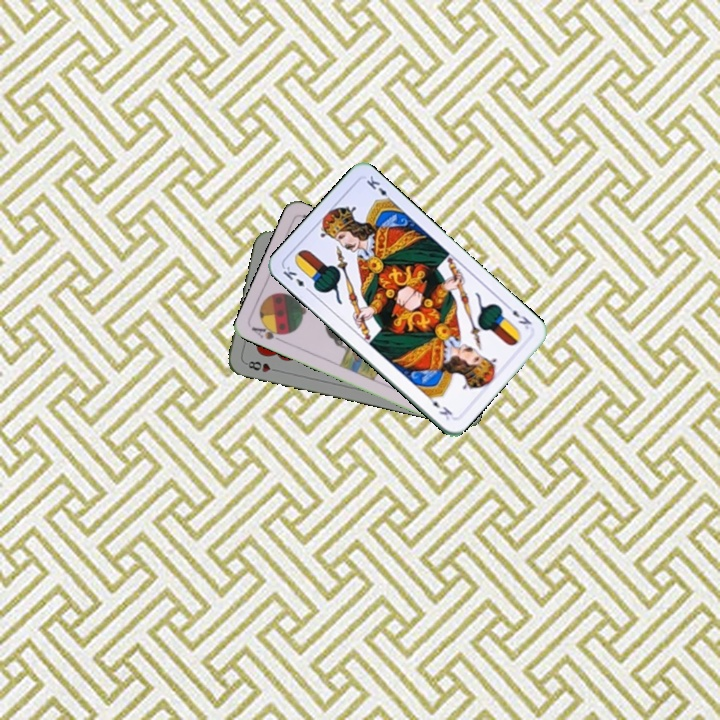EK: (279, 262, 314, 295), (502, 300, 534, 332)
H8: (241, 357, 282, 375)
SA: (248, 321, 289, 345)
